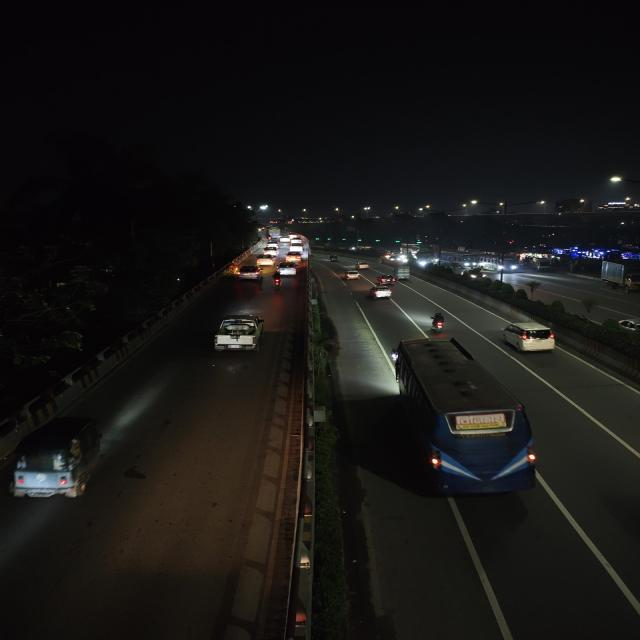bus: (383, 334, 546, 496), (486, 256, 519, 273), (441, 252, 476, 268), (410, 250, 436, 266)
car: (211, 312, 268, 356), (499, 320, 561, 358), (236, 264, 264, 282), (367, 284, 396, 301), (275, 261, 299, 277), (257, 254, 277, 267), (342, 269, 361, 281), (285, 250, 303, 262), (262, 245, 281, 255), (288, 238, 307, 248), (288, 234, 304, 244), (264, 242, 281, 251), (356, 261, 371, 270)
cng: (8, 414, 107, 506), (393, 266, 412, 282), (379, 274, 397, 286)
motorcycle: (426, 310, 451, 336), (272, 272, 285, 290), (328, 253, 339, 263)
truck: (600, 257, 639, 293), (534, 258, 554, 272)
